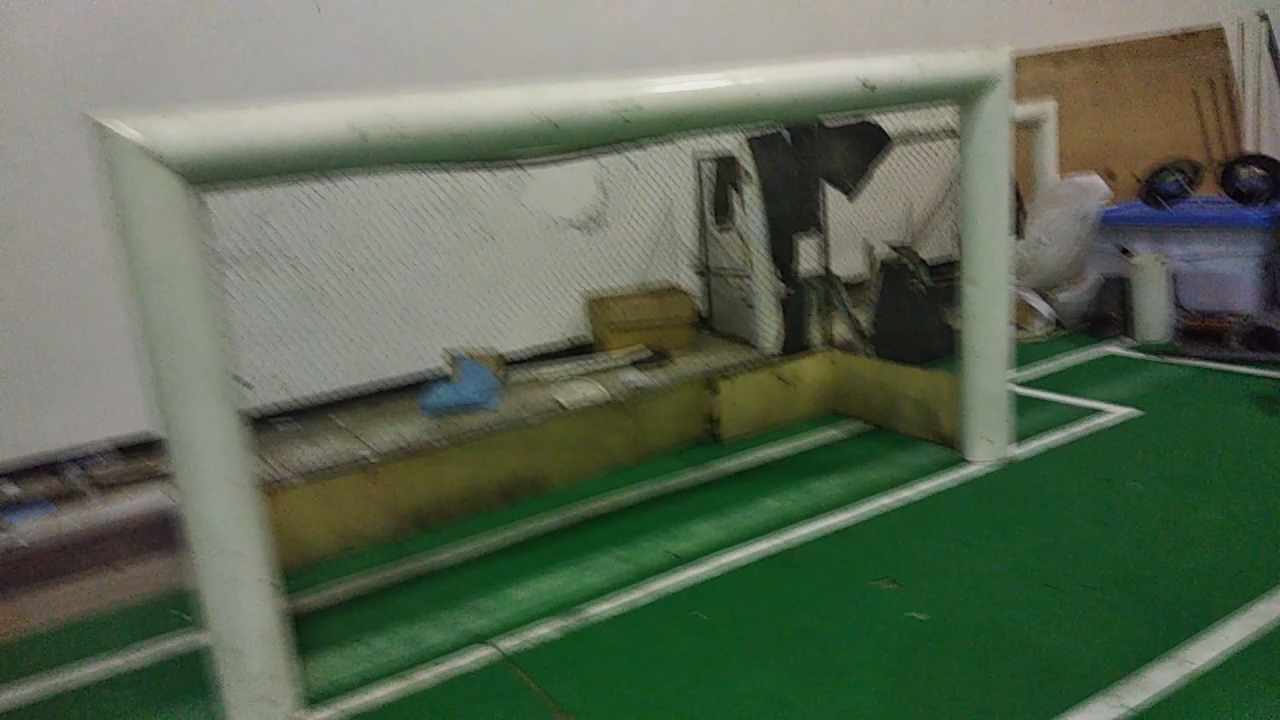gawang: (67, 25, 1029, 719)
